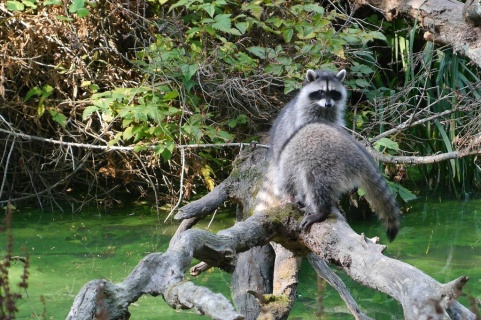Raccoon: (255, 68, 402, 243)
